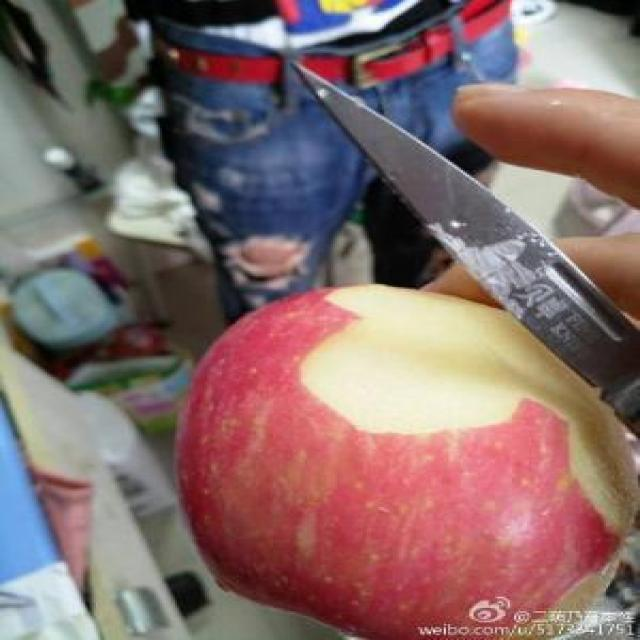Apple: (175, 275, 638, 640)
